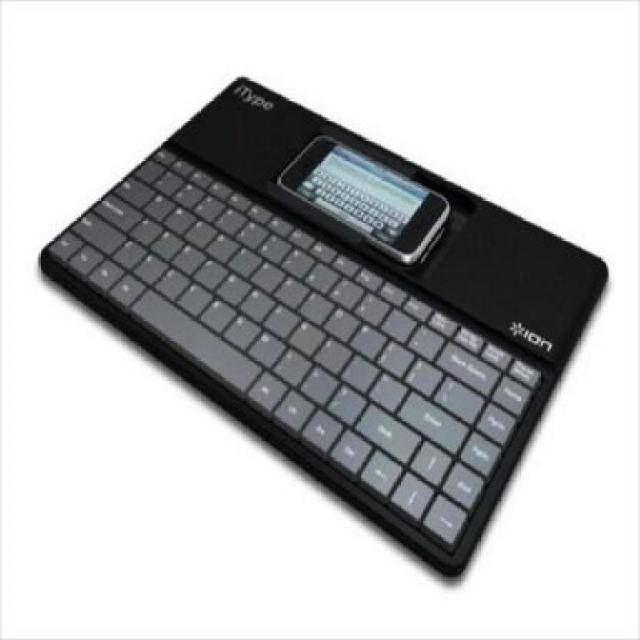phone: (275, 134, 453, 265)
